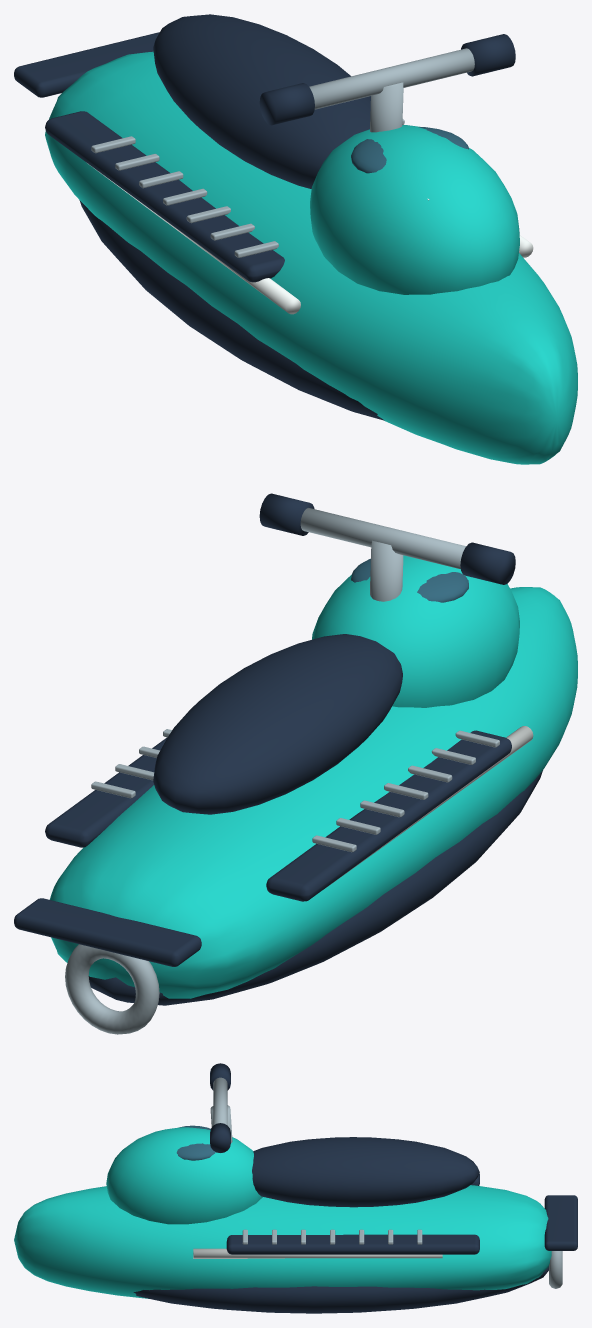
File: 01_Needle_Agile.glb
3 renders of one model, top to bottom at view 1: azimuth 30°, elevation 25°; view 2: azimuth 150°, elevation 25°; view 3: azimuth 270°, elevation 25°, orthographic. The views are drawn at different scales.
Visible parts, largest first — view 1: Sculpted hull, Front cowl, Saddle, Foot deck, Lower hull, Handlebar, Rear step, Grip, Grip.001, Steering column, Instrument glass, Side highlight; view 2: Sculpted hull, Saddle, Front cowl, Lower hull, Foot deck, Rear step, Jet outlet, Foot deck.001, Handlebar, Grip, Steering column, Grip.001 (+2 smaller); view 3: Sculpted hull, Saddle, Front cowl, Lower hull, Foot deck.001, Rear step, Side highlight.001, Handlebar, Instrument glass, Grip.001, Jet outlet, Grip.
Part boxes in pixels (x1,y1,x2,y2): Sculpted hull: [45, 51, 577, 464]; Front cowl: [310, 125, 519, 294]; Saddle: [153, 14, 370, 188]; Foot deck: [45, 111, 284, 282]; Lower hull: [79, 200, 384, 420]; Handlebar: [309, 48, 474, 109]; Rear step: [14, 32, 159, 97]; Grip: [259, 83, 314, 125]; Grip.001: [461, 34, 515, 76]; Steering column: [370, 82, 403, 132]; Instrument glass: [351, 127, 468, 173]; Side highlight: [87, 163, 300, 314]; Sculpted hull: [49, 587, 577, 998]; Saddle: [153, 634, 402, 814]; Front cowl: [312, 555, 519, 707]; Lower hull: [88, 770, 542, 1005]; Foot deck: [266, 730, 511, 901]; Rear step: [14, 898, 201, 966]; Jet outlet: [65, 944, 159, 1034]; Foot deck.001: [45, 737, 167, 847]; Handlebar: [300, 508, 465, 569]; Grip: [460, 542, 515, 584]; Steering column: [370, 540, 403, 601]; Grip.001: [259, 493, 314, 535]; Sculpted hull: [14, 1185, 551, 1298]; Saddle: [252, 1137, 479, 1207]; Front cowl: [106, 1127, 262, 1224]; Lower hull: [133, 1266, 548, 1313]; Foot deck.001: [226, 1234, 479, 1254]; Rear step: [544, 1195, 577, 1250]; Side highlight.001: [193, 1248, 442, 1258]; Handlebar: [213, 1077, 227, 1125]; Instrument glass: [176, 1125, 215, 1160]; Grip.001: [210, 1123, 230, 1152]; Jet outlet: [549, 1251, 562, 1288]; Grip: [210, 1063, 230, 1090].
Size of the model in its own units: 0.8988 by 1.05 by 2.72.
